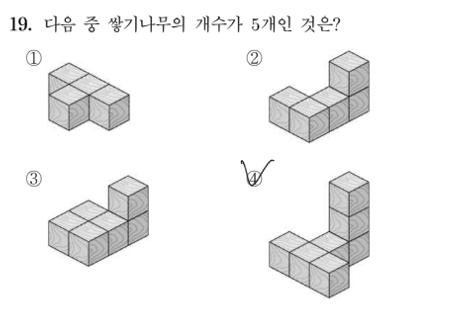1: (236, 156, 278, 192)
paper: (243, 49, 264, 69), (243, 169, 264, 189), (23, 168, 44, 188), (22, 48, 43, 68)
